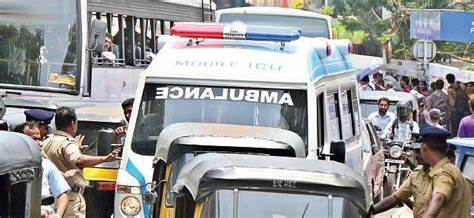ambulance: (125, 17, 378, 145)
